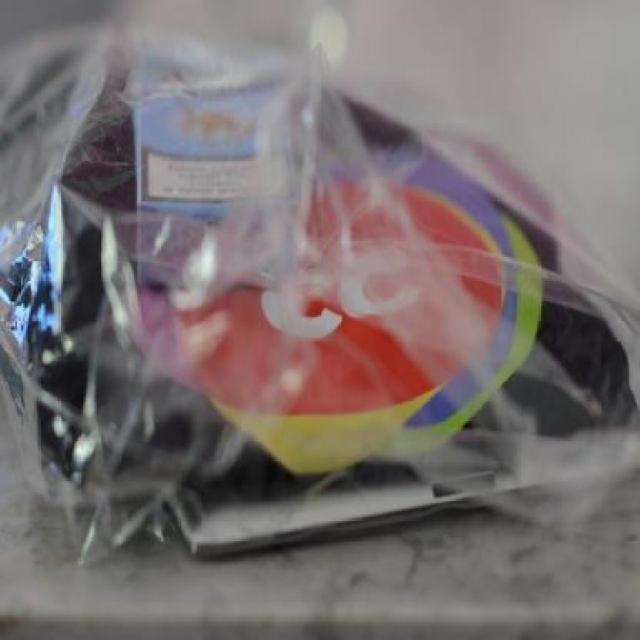plastic bag: (3, 81, 623, 538)
